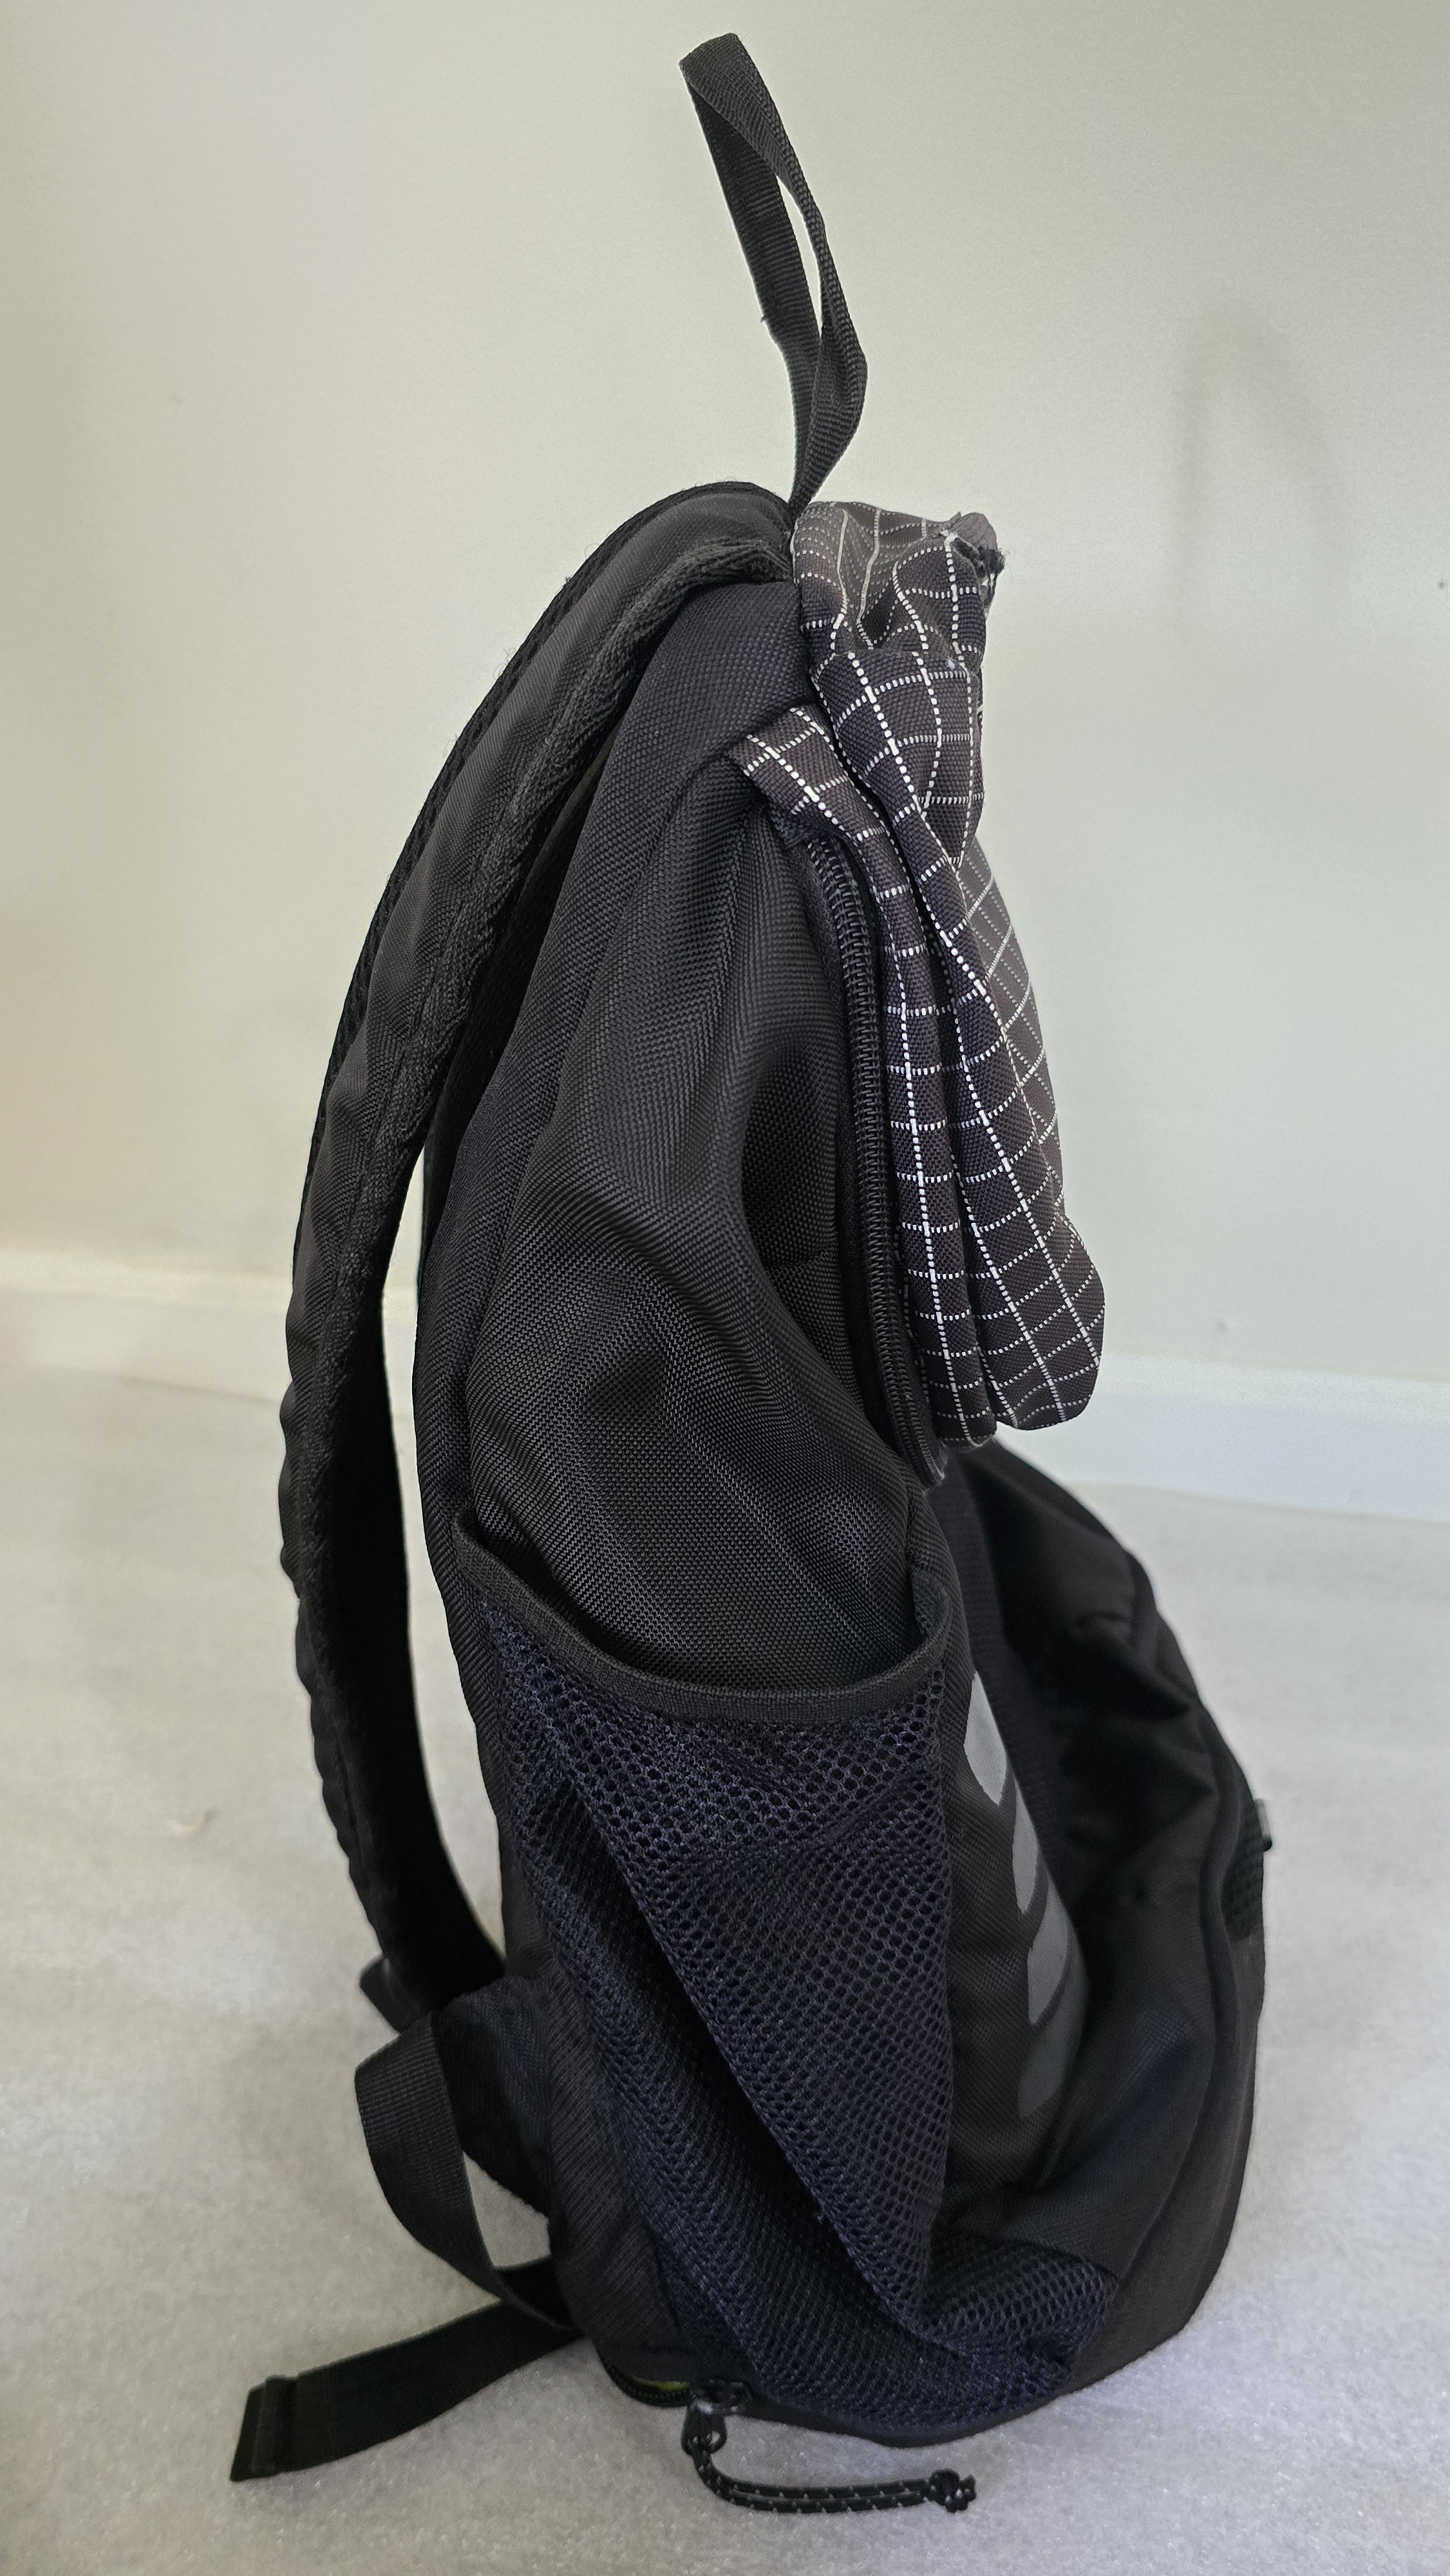bag: (164, 28, 1340, 2477)
